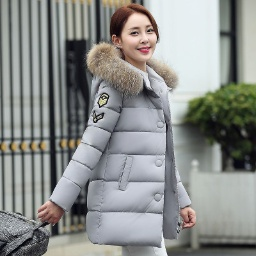face: (107, 2, 170, 71)
